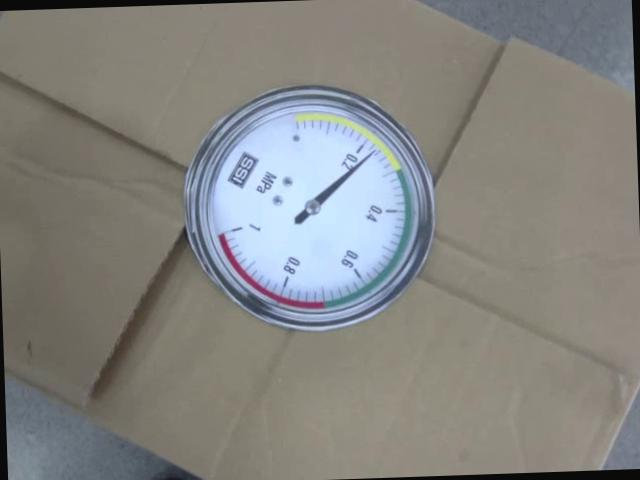Dashboard: (179, 82, 441, 338)
ssi: (225, 148, 259, 191)
